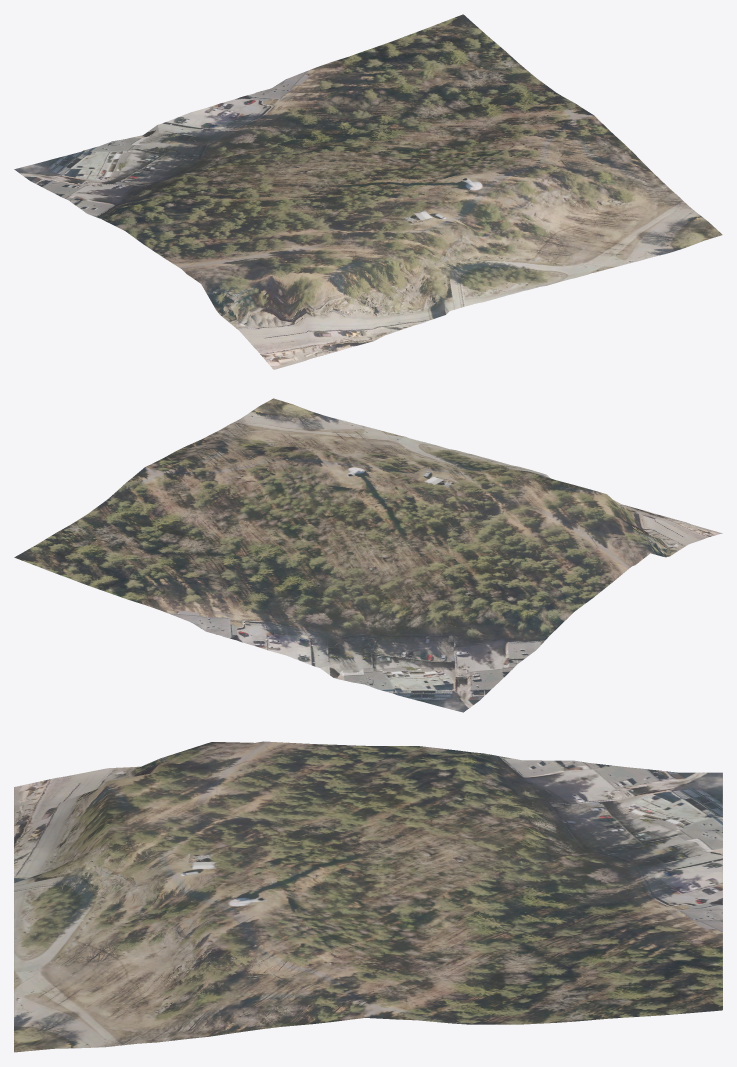
Rendered from CM_Terrain_24488206_6822046.fbx.
3 views of the same model, one above another, from view 1: azimuth 30°, elevation 25°; view 2: azimuth 150°, elevation 25°; view 3: azimuth 270°, elevation 25° (orthographic). The views are drawn at different scales.
Parts seen in each view (by area): view 1: CM_Terrain_24488206_6822046_LOD0; view 2: CM_Terrain_24488206_6822046_LOD0; view 3: CM_Terrain_24488206_6822046_LOD0.
Boxes of the visible parts, left/top/right/bottom form: CM_Terrain_24488206_6822046_LOD0: left=14, top=14, right=722, bottom=369; CM_Terrain_24488206_6822046_LOD0: left=14, top=398, right=722, bottom=712; CM_Terrain_24488206_6822046_LOD0: left=14, top=741, right=722, bottom=1052.
Size of what is drawn, in the model's own units: 205 by 24.46 by 205.
